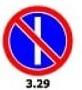road_sign: (3, 6, 71, 74)
